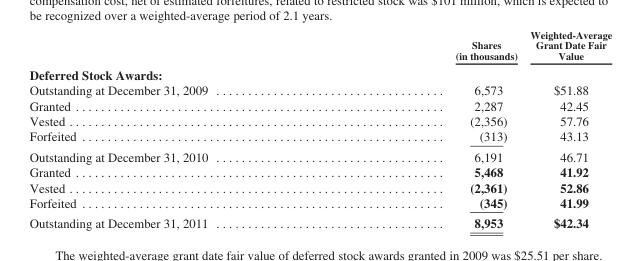table: (28, 28, 611, 230)
table column: (28, 28, 331, 230), (331, 28, 523, 230), (523, 28, 611, 230)
table column header: (28, 28, 611, 64)
table projected row header: (28, 64, 611, 82)
table row: (28, 28, 611, 64), (28, 64, 611, 82), (28, 128, 611, 146), (28, 194, 611, 212), (28, 212, 611, 230), (28, 146, 611, 163), (28, 97, 611, 113), (28, 163, 611, 179), (28, 82, 611, 97), (28, 113, 611, 128), (28, 179, 611, 194)
